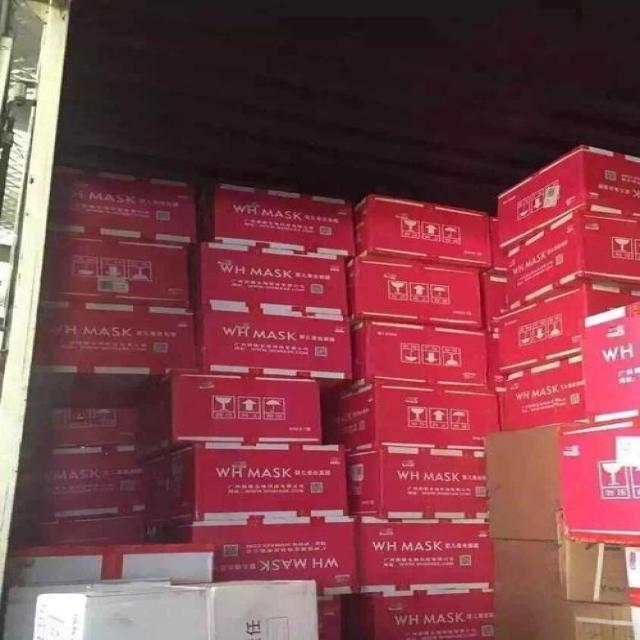box: (134, 373, 322, 462), (147, 443, 348, 525), (147, 517, 357, 594), (498, 144, 639, 251), (496, 275, 639, 373), (507, 209, 639, 308), (31, 296, 199, 373), (47, 161, 198, 245), (325, 379, 502, 450), (191, 304, 353, 379), (186, 242, 348, 316), (197, 181, 355, 255), (39, 229, 190, 306), (345, 253, 485, 330), (357, 515, 494, 591), (559, 415, 639, 544), (352, 195, 493, 268), (350, 446, 491, 518), (352, 321, 486, 387), (496, 354, 592, 431), (342, 590, 492, 639), (578, 304, 639, 422), (316, 594, 342, 639)
